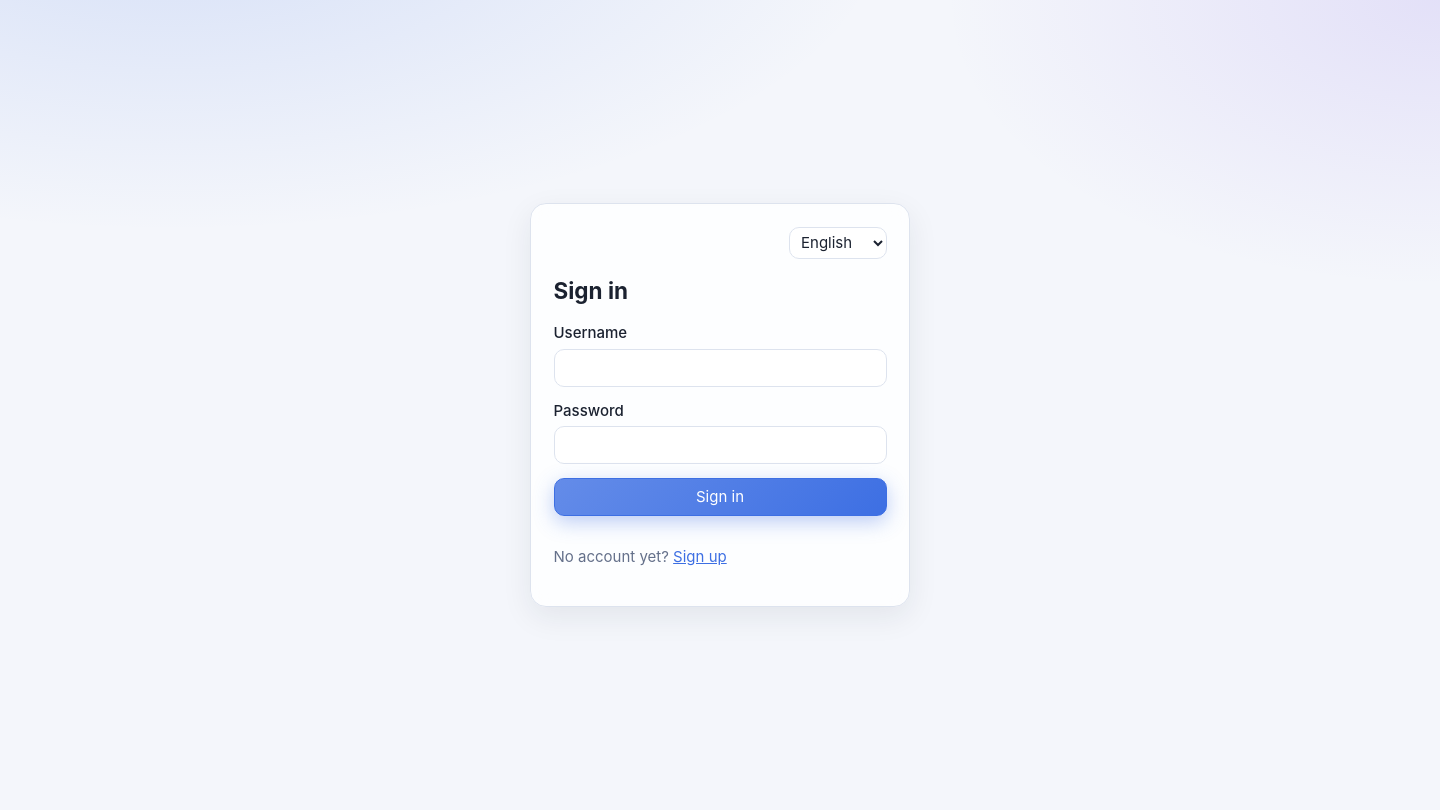
Scenario: language › switches the login page to Russian and remembers the choice
Select "ru" in the dropdown named "Language". click: {"x": 838, "y": 243}
box: [788, 227, 886, 259]
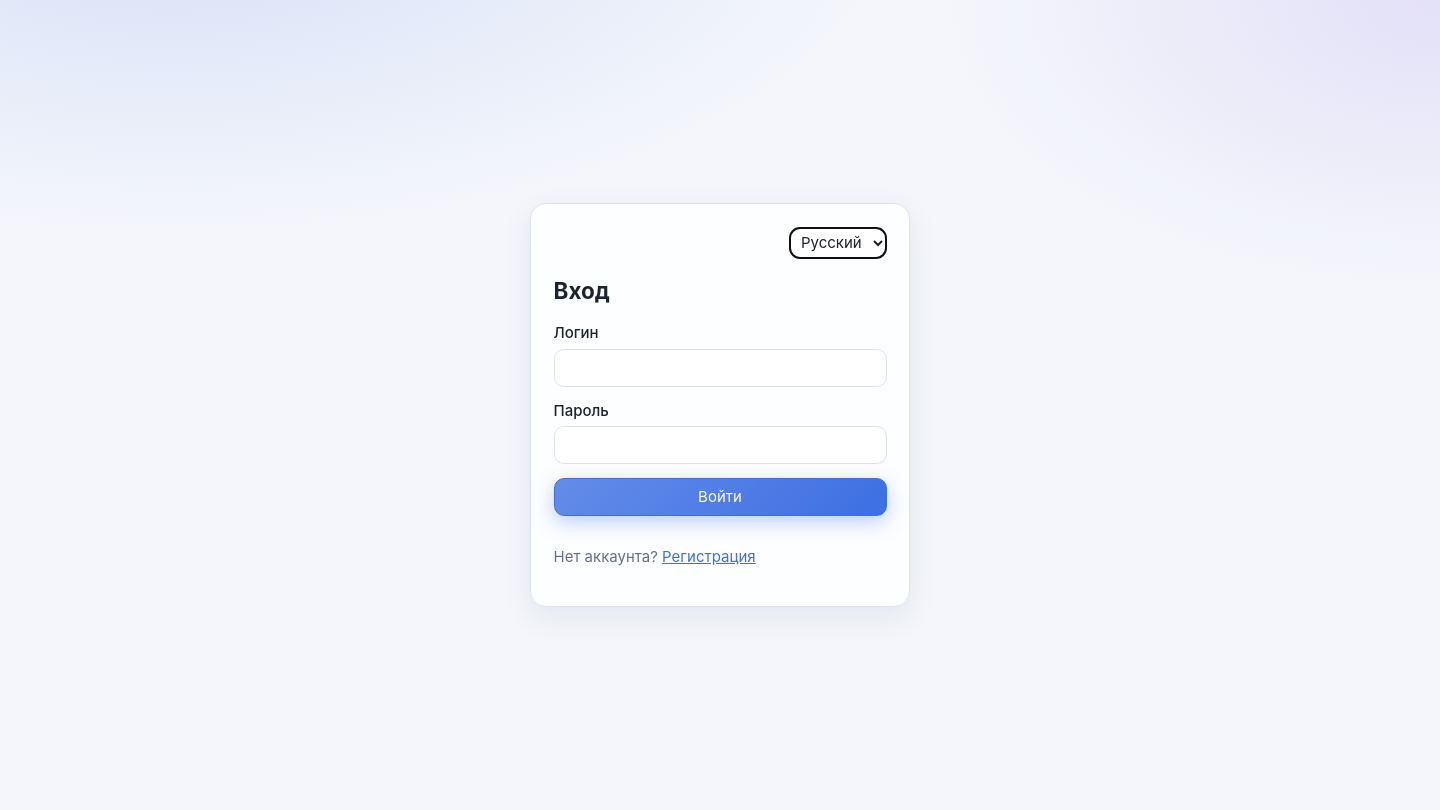
expect the heading "Вход" is shown: met, box [554, 277, 610, 304]
